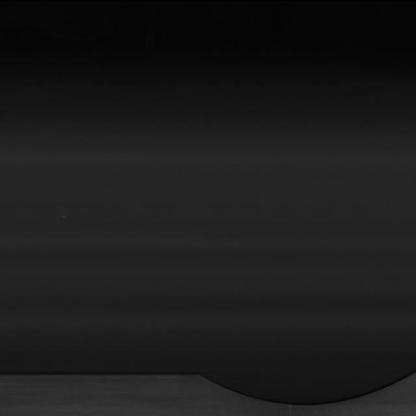crescent_gap: (187, 360, 416, 407)
